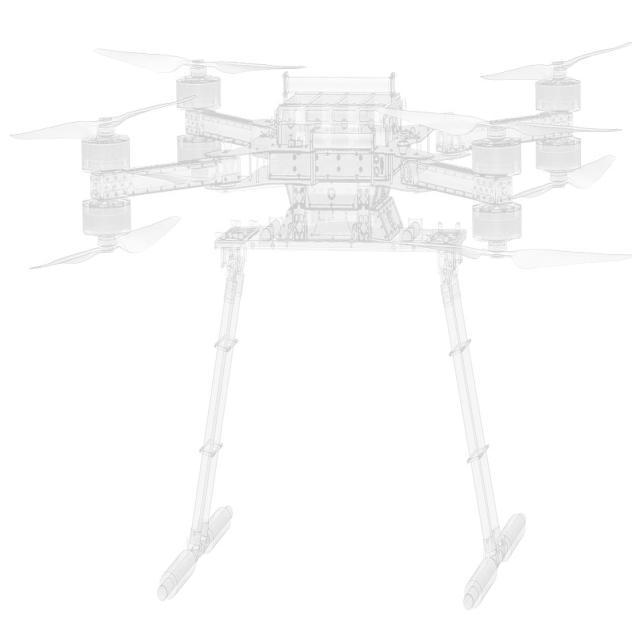drones: (8, 28, 626, 636)
